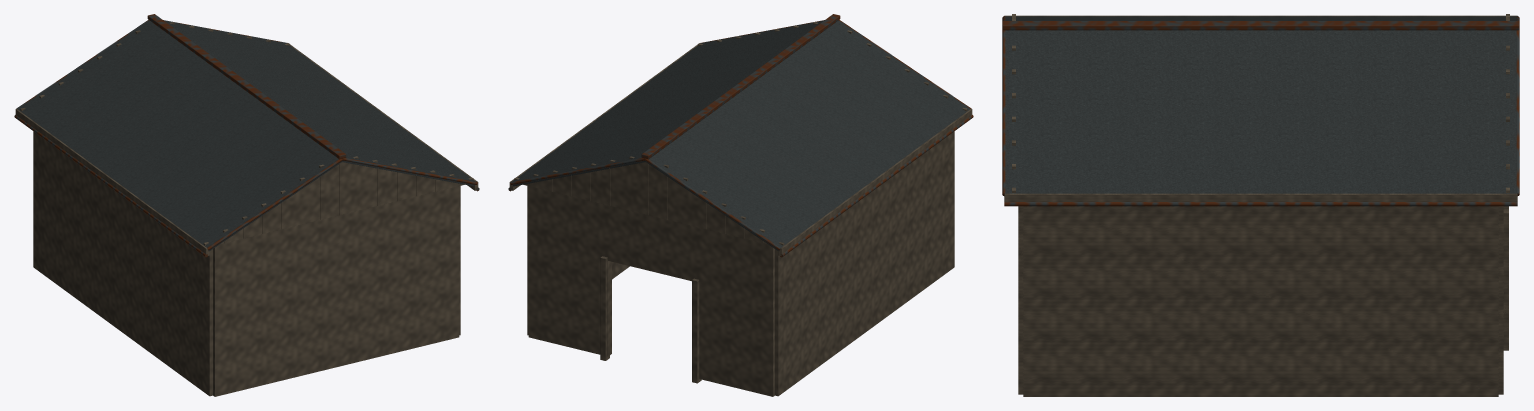
The model's file is Barn_LOD2.fbx.
3 views of the same model, side by side, from view 1: azimuth 30°, elevation 25°; view 2: azimuth 150°, elevation 25°; view 3: azimuth 270°, elevation 25° (orthographic). The views are drawn at different scales.
Visible parts, largest first — view 1: Barn_LOD2; view 2: Barn_LOD2; view 3: Barn_LOD2.
Part boxes in pixels (<box>): Barn_LOD2: <box>14,14,479,396</box>; Barn_LOD2: <box>508,14,973,396</box>; Barn_LOD2: <box>1002,14,1519,396</box>.
Size of the model in its own units: 899 by 687 by 1089.
